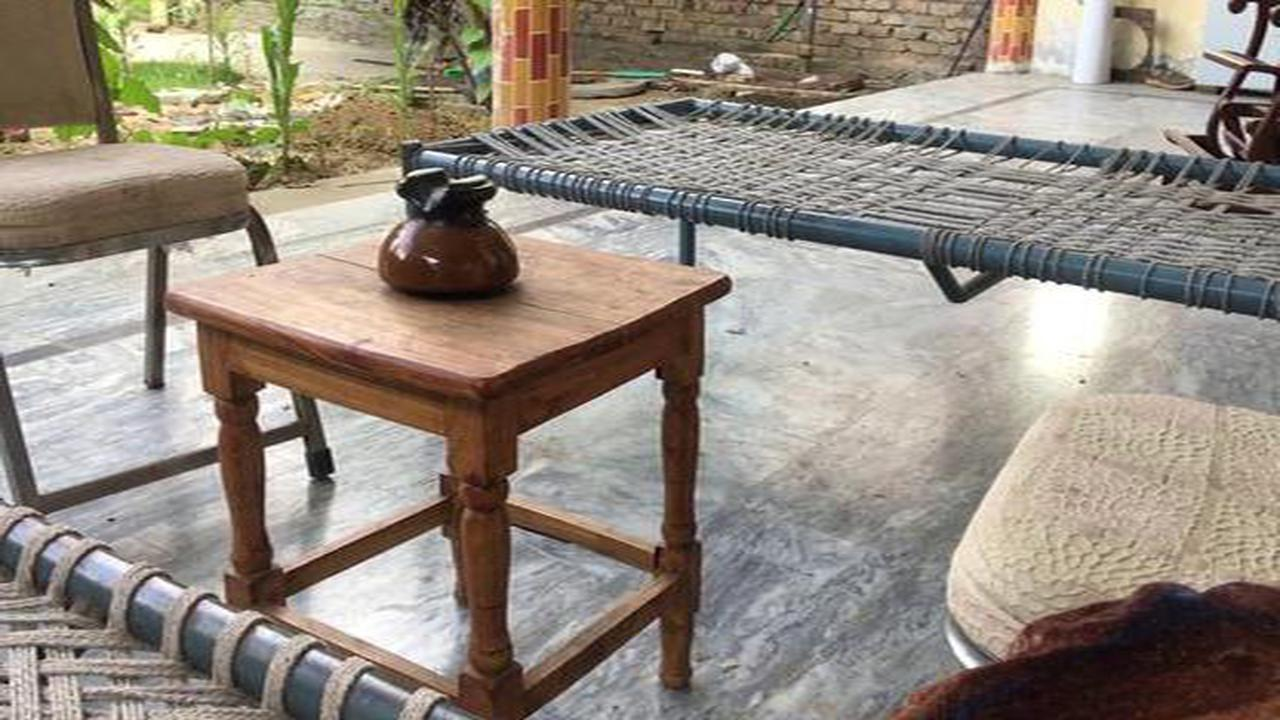insulator_pin: (354, 158, 542, 316)
